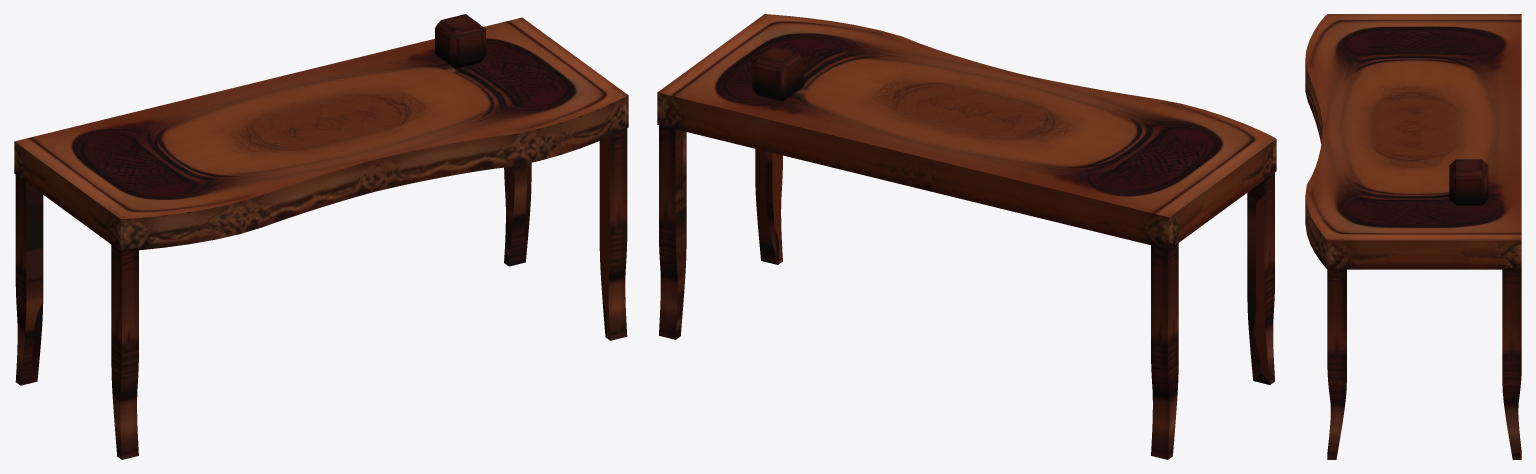
File: edited_mesh.glb
3 renders of one model, left to right at view 1: azimuth 30°, elevation 25°; view 2: azimuth 150°, elevation 25°; view 3: azimuth 270°, elevation 25°, orthographic. The views are drawn at different scales.
Parts seen in each view (by area): view 1: solid_001_wire; view 2: solid_001_wire; view 3: solid_001_wire.
Boxes of the visible parts, x1=… form: solid_001_wire: x1=14, y1=14, x2=628, y2=459; solid_001_wire: x1=657, y1=14, x2=1276, y2=459; solid_001_wire: x1=1305, y1=14, x2=1521, y2=459.
Bounding box in the file's own units: 1.95 × 1.03 × 0.7881.
1 material, 1 textured.
